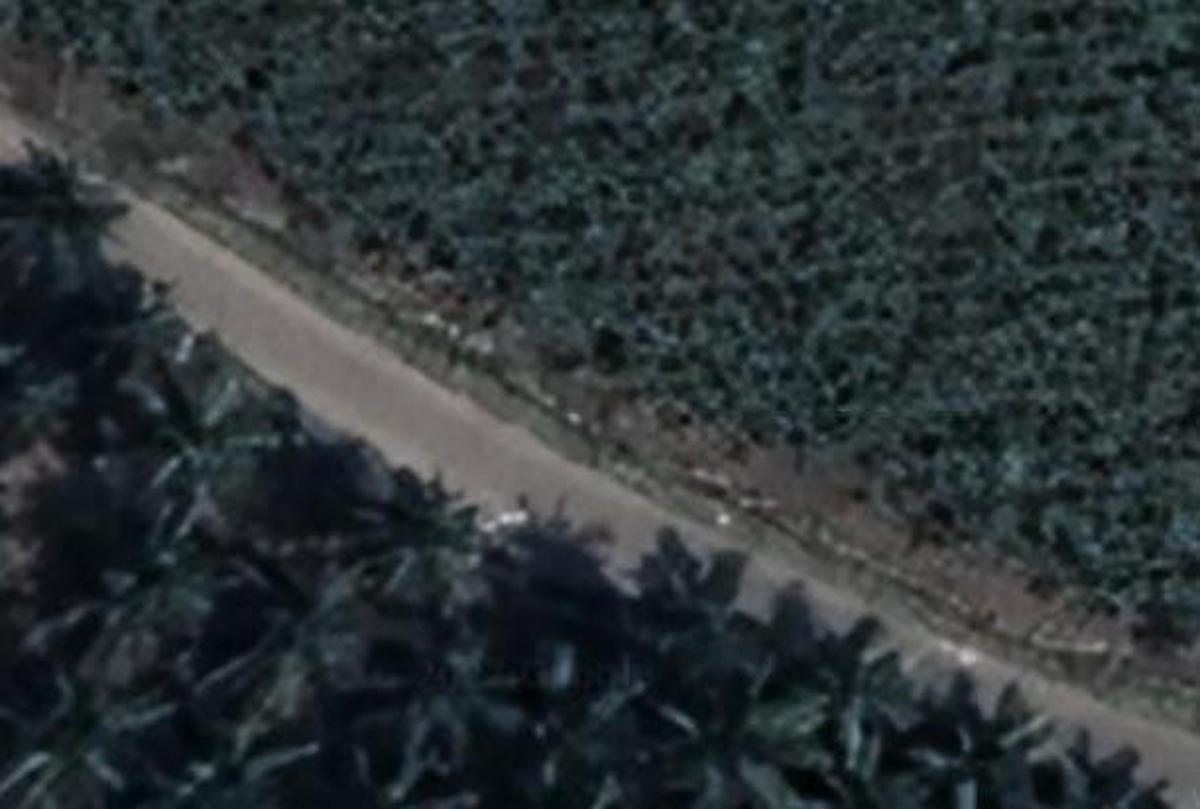coconut: (3, 653, 179, 803), (139, 372, 287, 505), (356, 639, 497, 771), (98, 501, 230, 641), (617, 535, 749, 663), (501, 651, 625, 783), (236, 557, 352, 694), (670, 686, 788, 807), (3, 143, 125, 259), (360, 472, 485, 584), (802, 645, 922, 761), (76, 273, 186, 387), (182, 712, 310, 809), (912, 704, 1024, 807)
